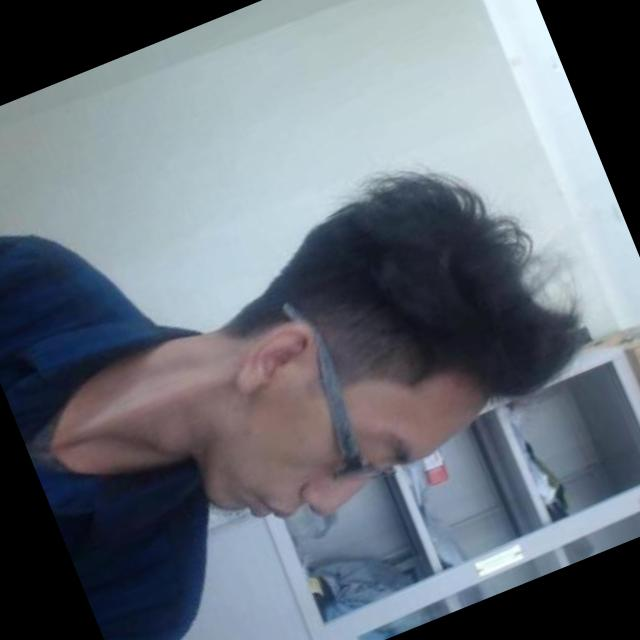bareface: (101, 87, 640, 619)
